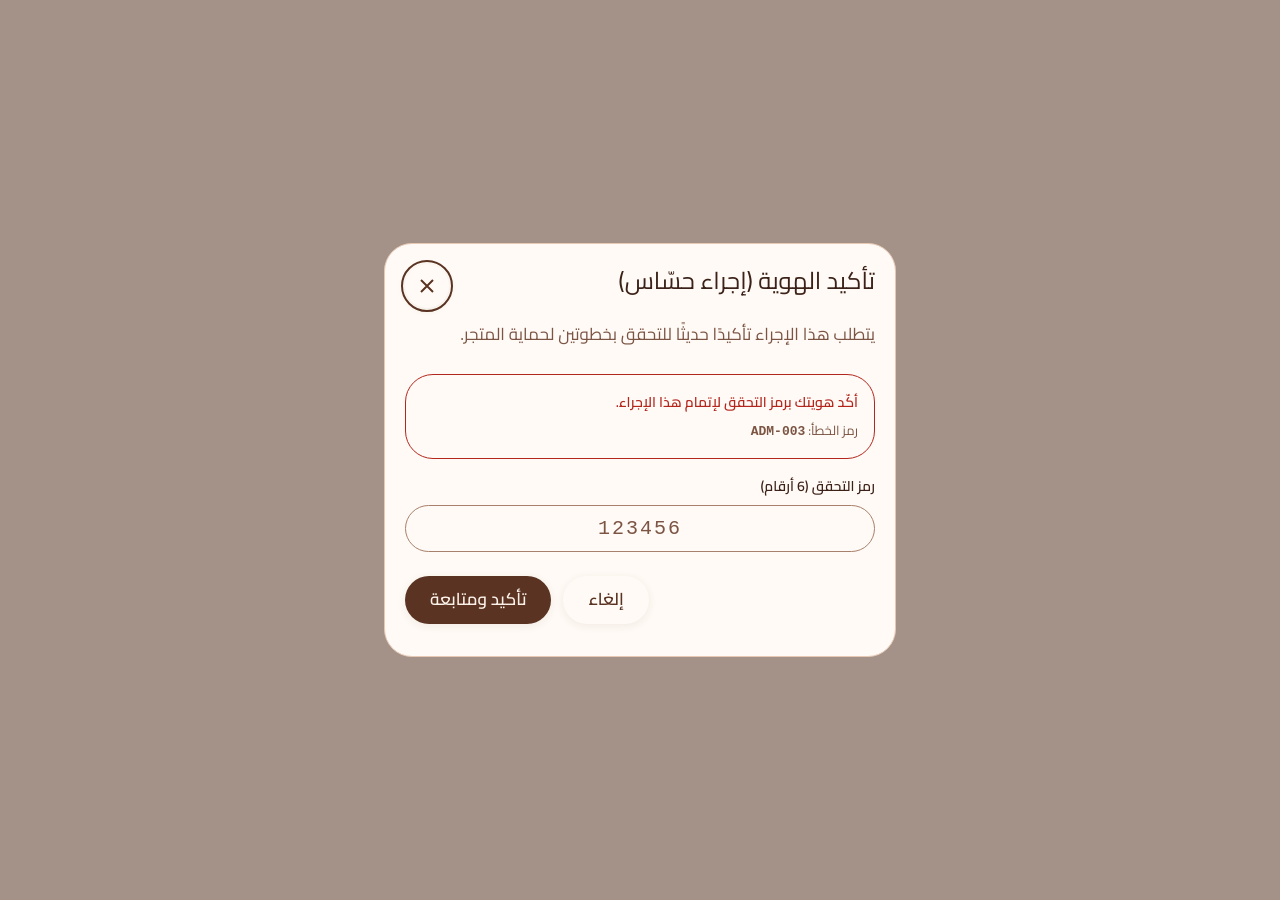
Test: Step-up confirmation (T-2.09) › StepUpDialog displays AUTH-006 when code verification fails
expect the text "أكّد هويتك برمز التحقق لإتمام هذا الإجراء." is shown: met, box [616,389,858,415]
In the field labelled "رمز التحقق (6 أرقام)": x=640, y=529 [405,505,875,552], type "000000"
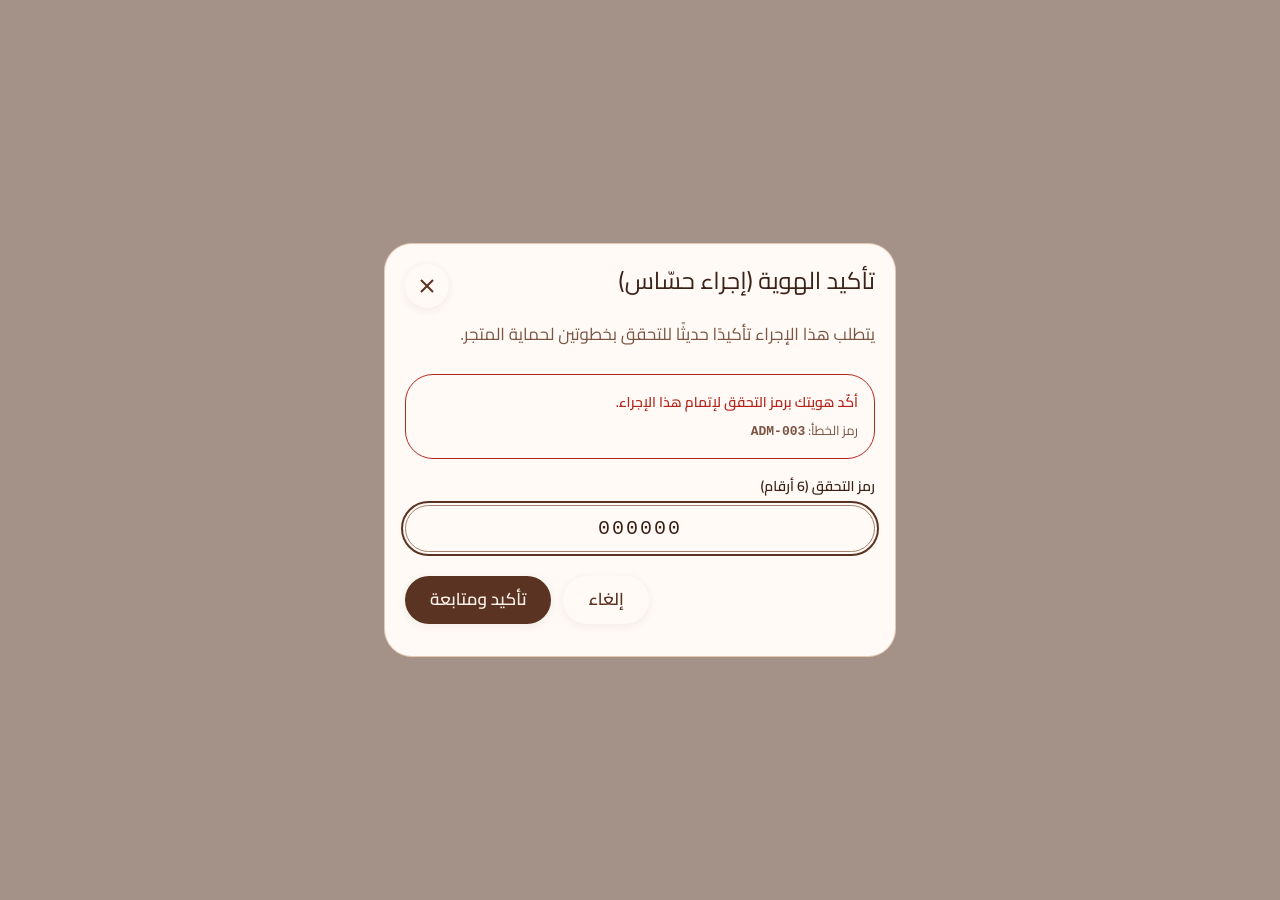
Click the button "تأكيد ومتابعة": x=478, y=600 [405,576,552,624]
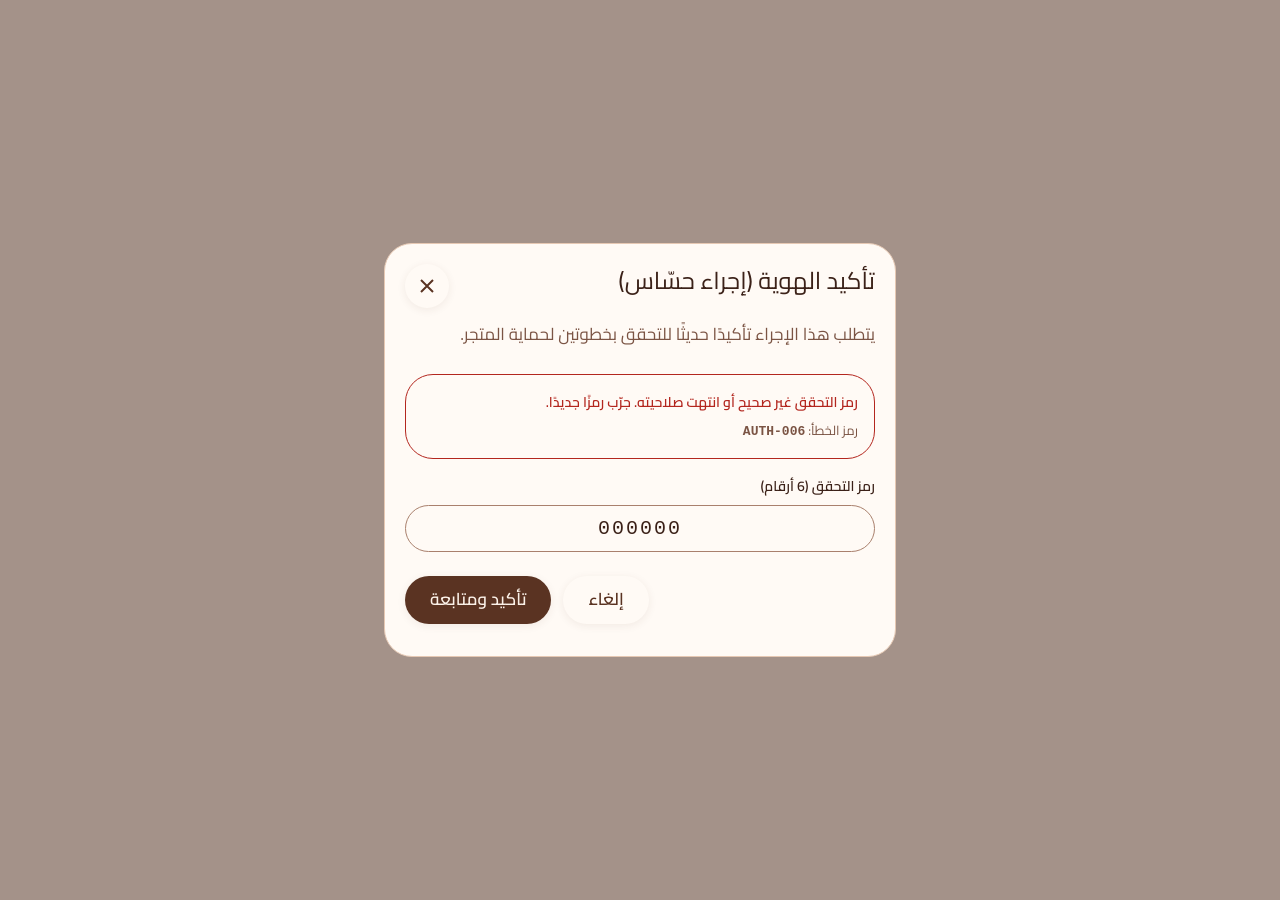
expect the text "رمز التحقق غير صحيح أو انتهت صلاحيته. جرّب رمزًا جديدًا." is shown: met, box [546,389,858,415]
expect the text "AUTH-006" is shown: met, box [743,424,805,439]
